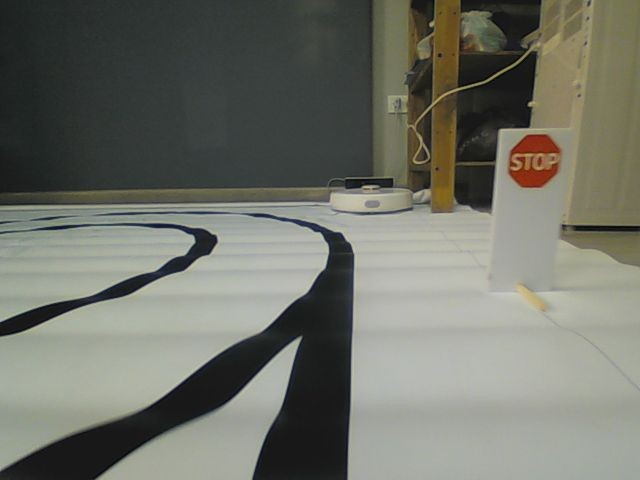Stop: (507, 134, 563, 187)
